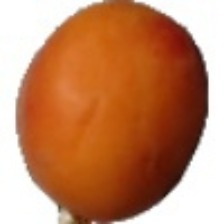apricot: (14, 23, 189, 219)
